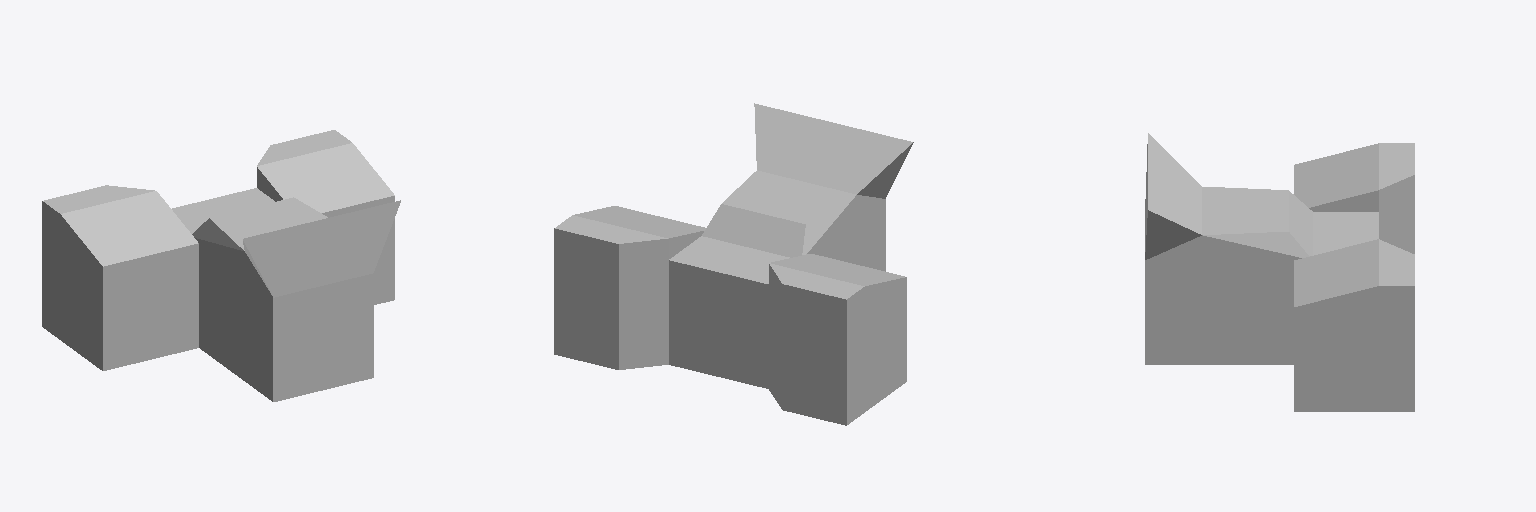
Rendered from col_boss.obj.
3 views of the same model, side by side, from view 1: azimuth 30°, elevation 25°; view 2: azimuth 150°, elevation 25°; view 3: azimuth 270°, elevation 25° (orthographic).
Visible parts, largest first — view 1: boss_col_Cube.003; view 2: boss_col_Cube.003; view 3: boss_col_Cube.003.
Part boxes in pixels (bbox=[...]): boss_col_Cube.003: bbox=[42, 130, 400, 401]; boss_col_Cube.003: bbox=[554, 103, 913, 425]; boss_col_Cube.003: bbox=[1145, 133, 1414, 411].
Bounding box in the file's own units: 3.13 × 1.74 × 2.5.